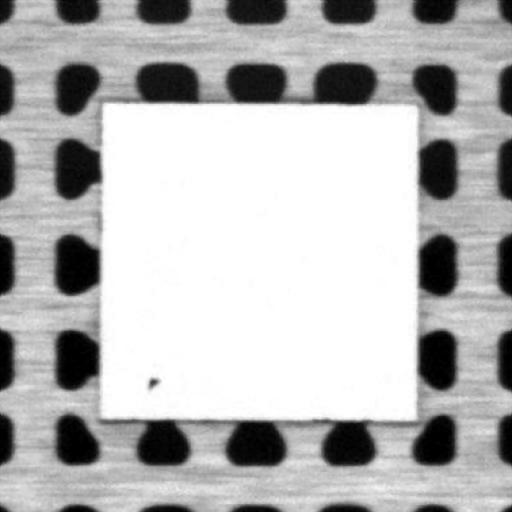DIE_INK: (145, 376, 157, 385)
